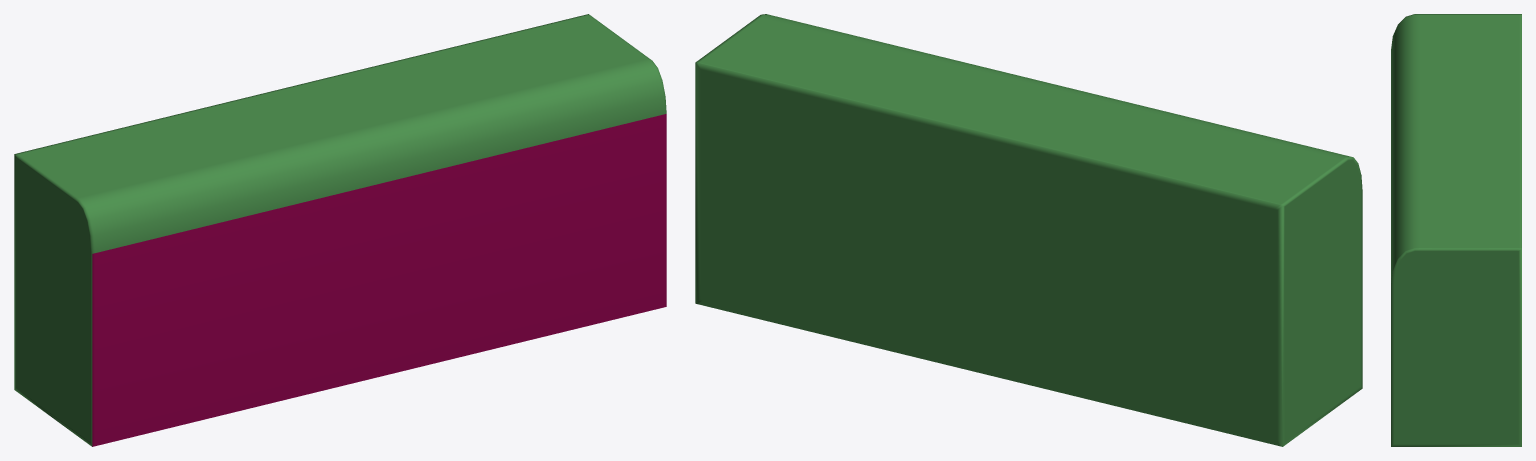
Rendered from ApocalypticPharmacy01_CheckOutCounter.fbx.
The picture shows the model from 3 angles, left to right: view 1: azimuth 30°, elevation 25°; view 2: azimuth 150°, elevation 25°; view 3: azimuth 270°, elevation 25°; orthographic projection. The views are drawn at different scales.
Visible parts, largest first — view 1: ApocalypticPharmacy01_CheckOutCounter; view 2: ApocalypticPharmacy01_CheckOutCounter; view 3: ApocalypticPharmacy01_CheckOutCounter.
Boxes of the visible parts, left/top/right/bottom form: ApocalypticPharmacy01_CheckOutCounter: left=14, top=14, right=666, bottom=446; ApocalypticPharmacy01_CheckOutCounter: left=695, top=14, right=1362, bottom=446; ApocalypticPharmacy01_CheckOutCounter: left=1391, top=14, right=1521, bottom=446.
Size of the model in its own units: 2.55 by 1 by 0.6.
